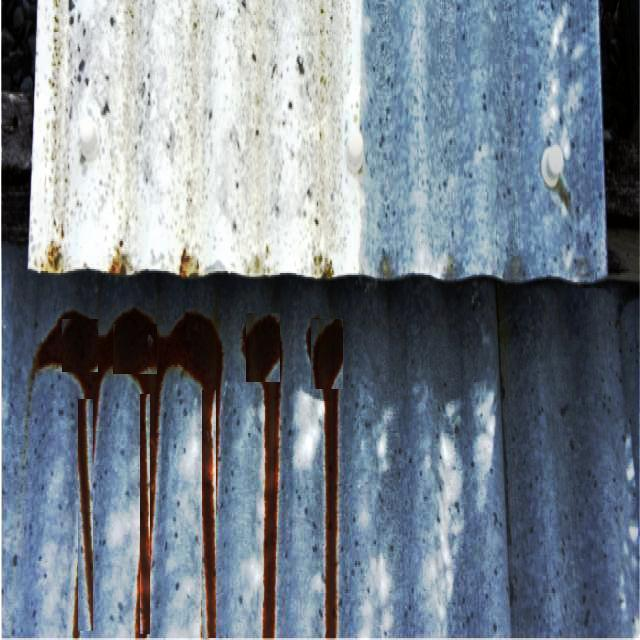Corrosion: (32, 309, 223, 639), (243, 315, 283, 640), (307, 320, 344, 640)
